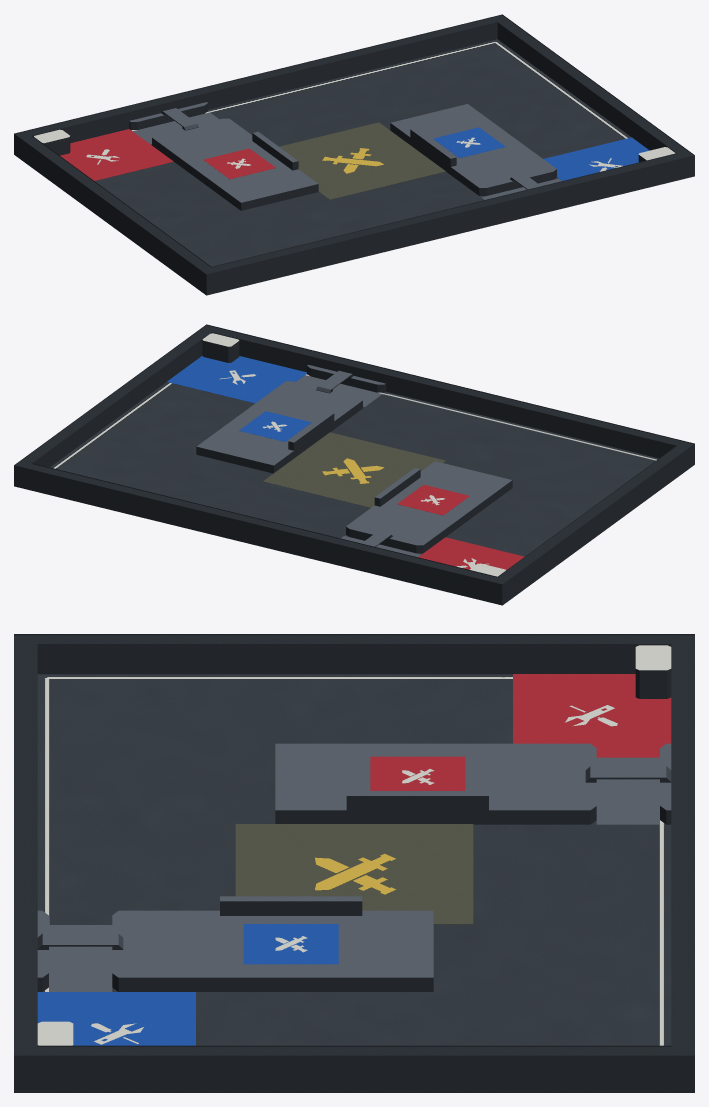
Rendered from rmul_2027_visual.dae.
The picture shows the model from 3 angles, top to bottom: view 1: azimuth 30°, elevation 25°; view 2: azimuth 150°, elevation 25°; view 3: azimuth 270°, elevation 25°; orthographic projection. The views are drawn at different scales.
Parts seen in each view (by area): view 1: pvc_floor, panel_graphite, pvc_platform, pvc_control, pvc_red, pvc_blue, paint_white, paint_yellow; view 2: pvc_floor, panel_graphite, pvc_platform, pvc_control, pvc_blue, pvc_red, paint_white, paint_yellow; view 3: pvc_floor, panel_graphite, pvc_platform, pvc_control, pvc_red, pvc_blue, paint_white, paint_yellow.
Part boxes in pixels (x1,y1,x2,y2): pvc_floor: [95, 39, 631, 266]; panel_graphite: [14, 14, 694, 295]; pvc_platform: [130, 102, 561, 202]; pvc_control: [279, 122, 445, 199]; pvc_red: [60, 129, 275, 180]; pvc_blue: [433, 127, 649, 180]; paint_white: [34, 129, 675, 171]; paint_yellow: [322, 148, 383, 173]; pvc_floor: [50, 374, 658, 556]; panel_graphite: [14, 324, 694, 605]; pvc_platform: [197, 365, 511, 557]; pvc_control: [263, 432, 445, 507]; pvc_blue: [167, 356, 311, 441]; pvc_red: [397, 484, 524, 570]; paint_white: [202, 333, 505, 576]; paint_yellow: [322, 458, 384, 483]; pvc_floor: [37, 674, 671, 1045]; panel_graphite: [14, 634, 694, 1092]; pvc_platform: [37, 743, 671, 991]; pvc_control: [235, 824, 473, 924]; pvc_red: [370, 674, 671, 790]; pvc_blue: [37, 924, 338, 1045]; paint_white: [37, 645, 671, 1045]; paint_yellow: [315, 853, 395, 894].
Size of the model in its own units: 12.6 by 8.6 by 0.52.
10 materials, 10 textured.
